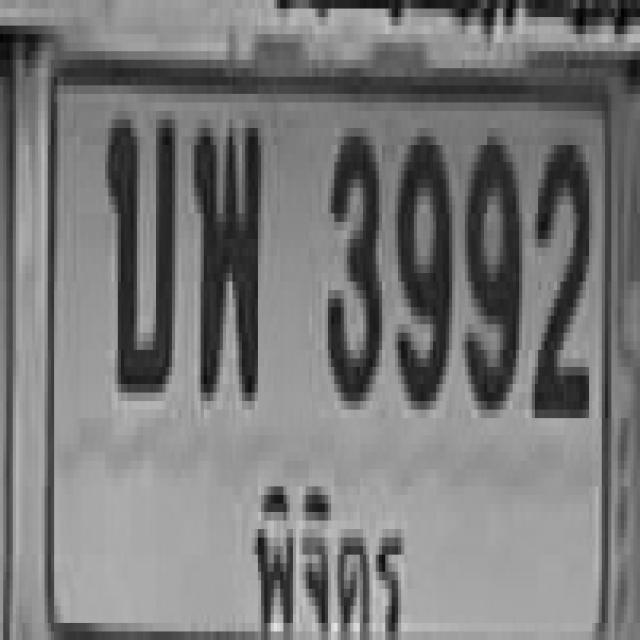2: (528, 136, 586, 410)
3: (325, 124, 379, 397)
35BorBaiMai: (104, 111, 174, 384)
39PhorPan: (191, 120, 258, 392)
9: (462, 128, 519, 401), (395, 128, 449, 401)
Phichit: (238, 454, 418, 640)
